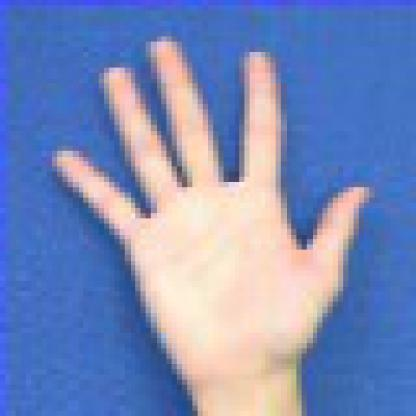five: (33, 22, 390, 404)
